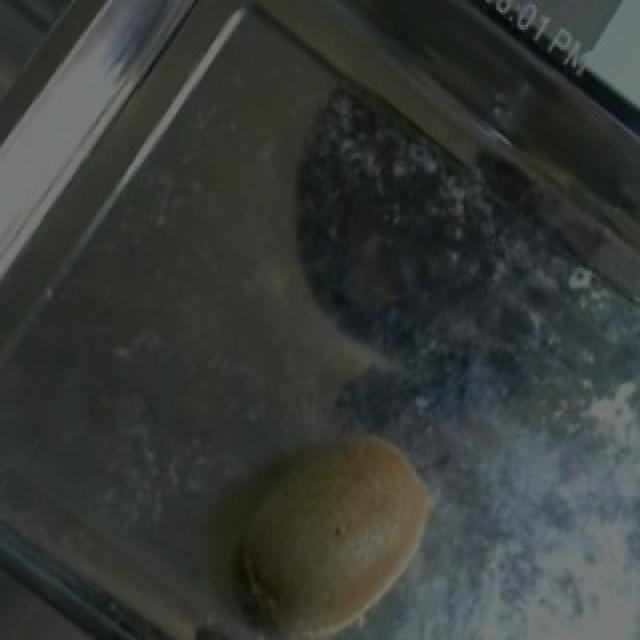Fruit: (210, 414, 452, 640)
